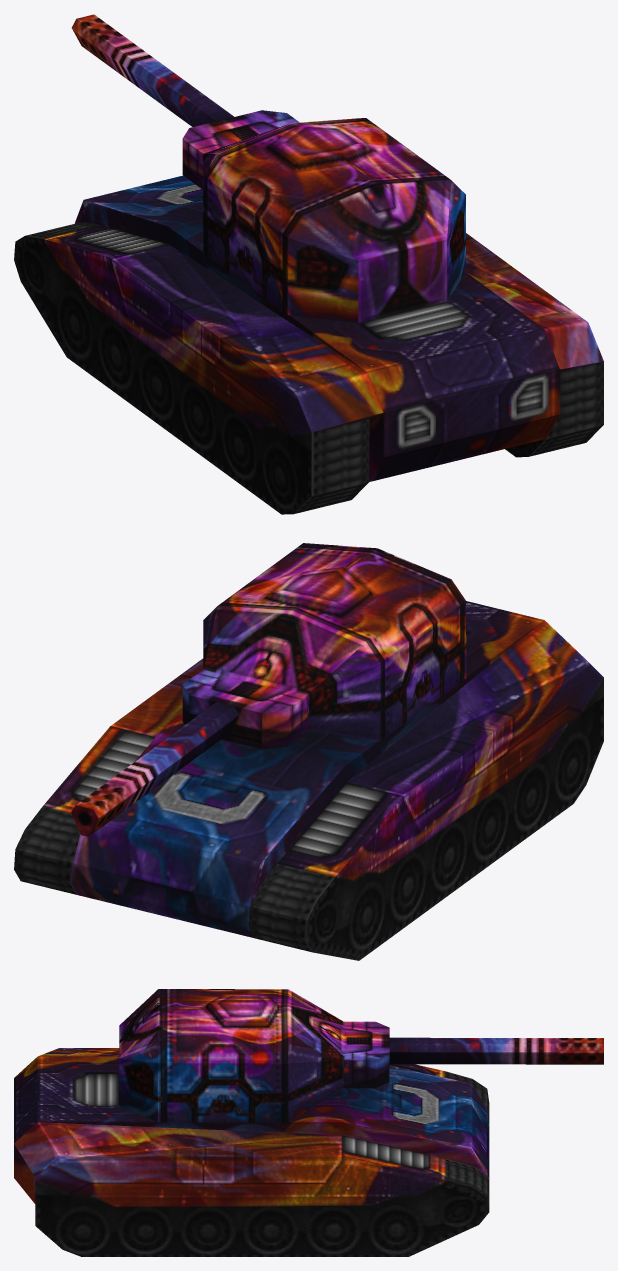
The picture shows the model from 3 angles, top to bottom: view 1: azimuth 30°, elevation 25°; view 2: azimuth 150°, elevation 25°; view 3: azimuth 270°, elevation 25°; orthographic projection. The views are drawn at different scales.
Visible parts, largest first — view 1: hull, turret; view 2: hull, turret; view 3: hull, turret.
Part boxes in pixels (left/top/right/bottom): hull: left=14, top=175, right=603, bottom=514; turret: left=71, top=14, right=465, bottom=322; hull: left=14, top=601, right=603, bottom=960; turret: left=71, top=543, right=466, bottom=836; hull: left=14, top=1048, right=489, bottom=1256; turret: left=119, top=989, right=603, bottom=1122.
Size of the model in its own units: 277 by 238 by 636.
Materials: 2 (2 with a texture image).
